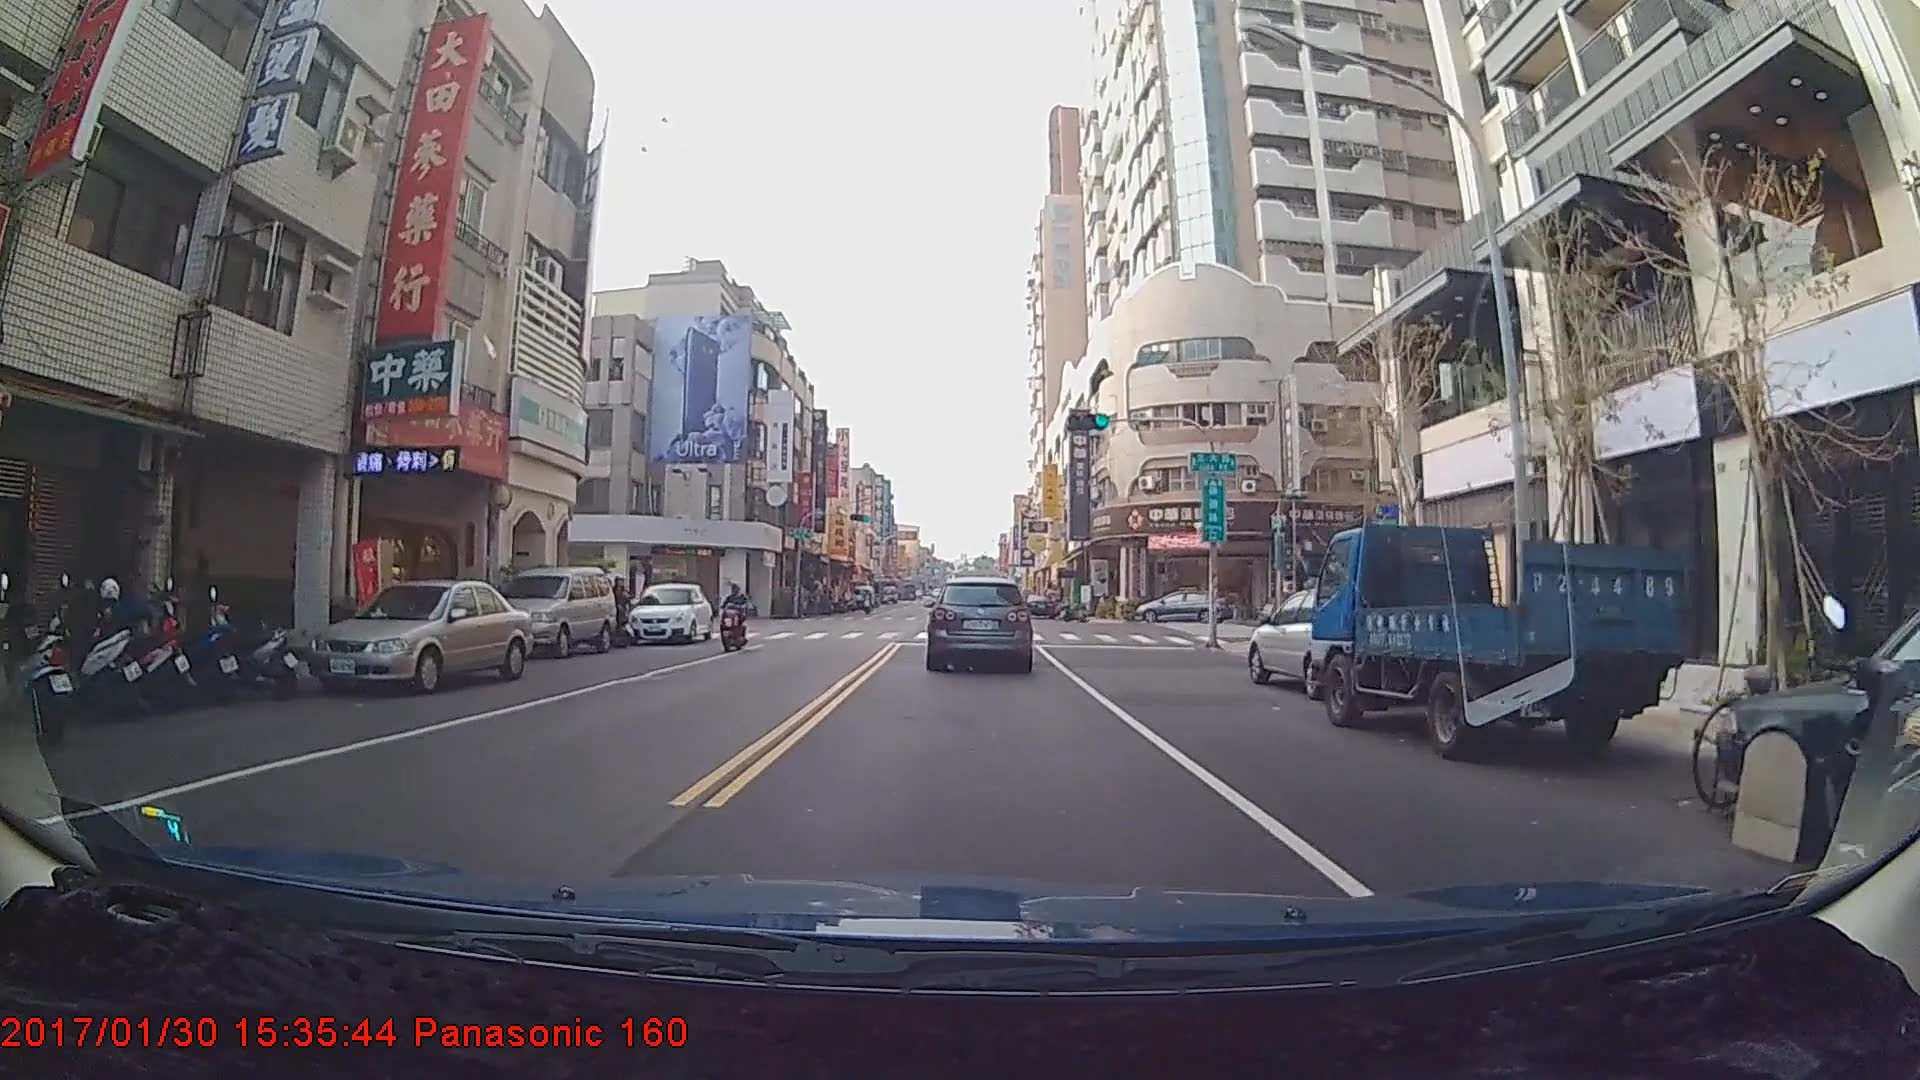rider: (718, 580, 753, 654)
vehicle: (1313, 520, 1684, 755), (297, 575, 530, 695), (1245, 582, 1396, 699), (480, 561, 617, 659), (926, 576, 1032, 671), (627, 579, 714, 643), (1131, 585, 1224, 620), (1021, 589, 1054, 614), (849, 579, 873, 606)
